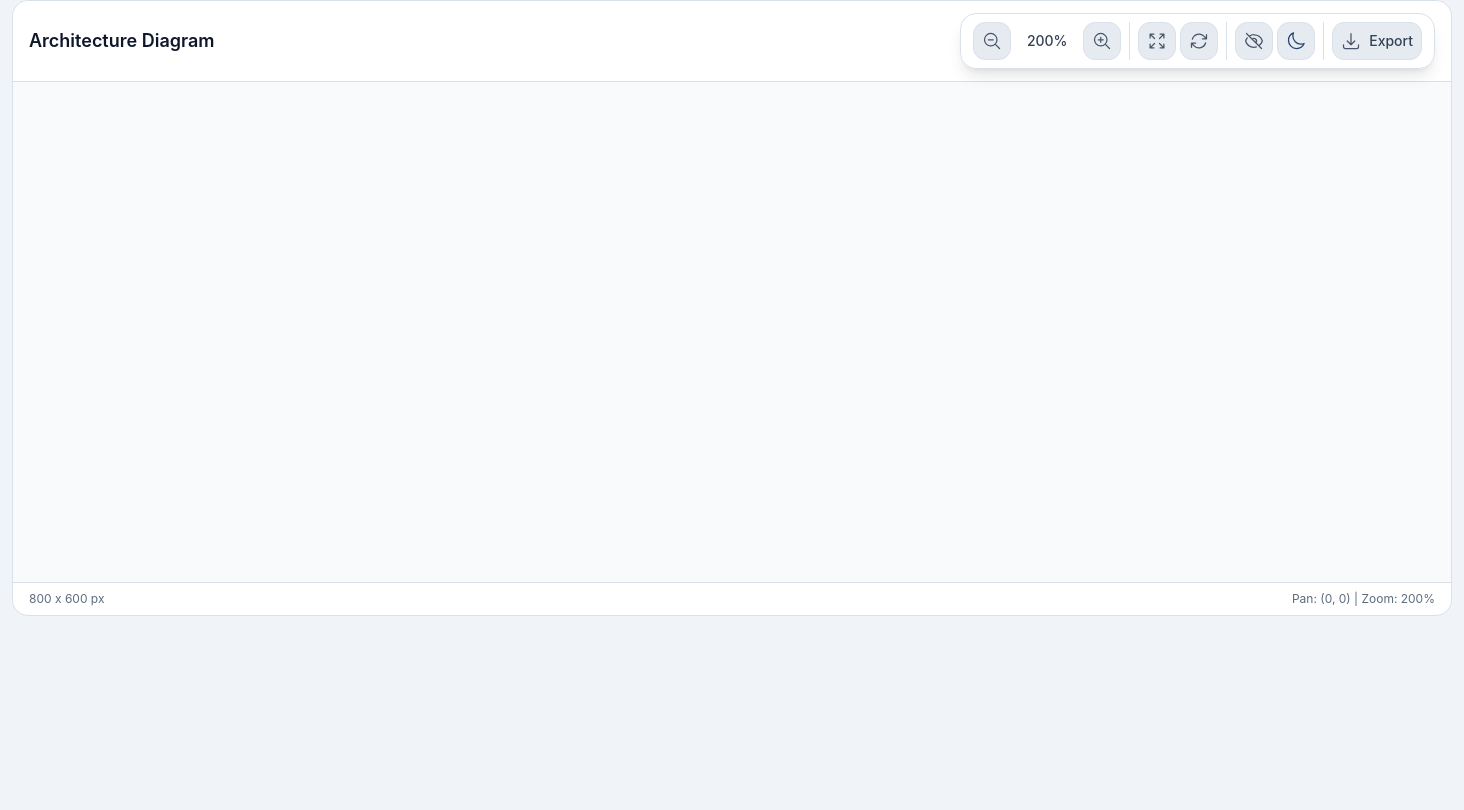
Scenario: DiagramViewer › view controls › reset view button sets zoom to 100%
Check: the text "200%" is shown, box x1=1027 y1=32 x2=1068 y2=49
Click the button named "reset view".
click(1199, 41)  # box x1=1180 y1=22 x2=1218 y2=60
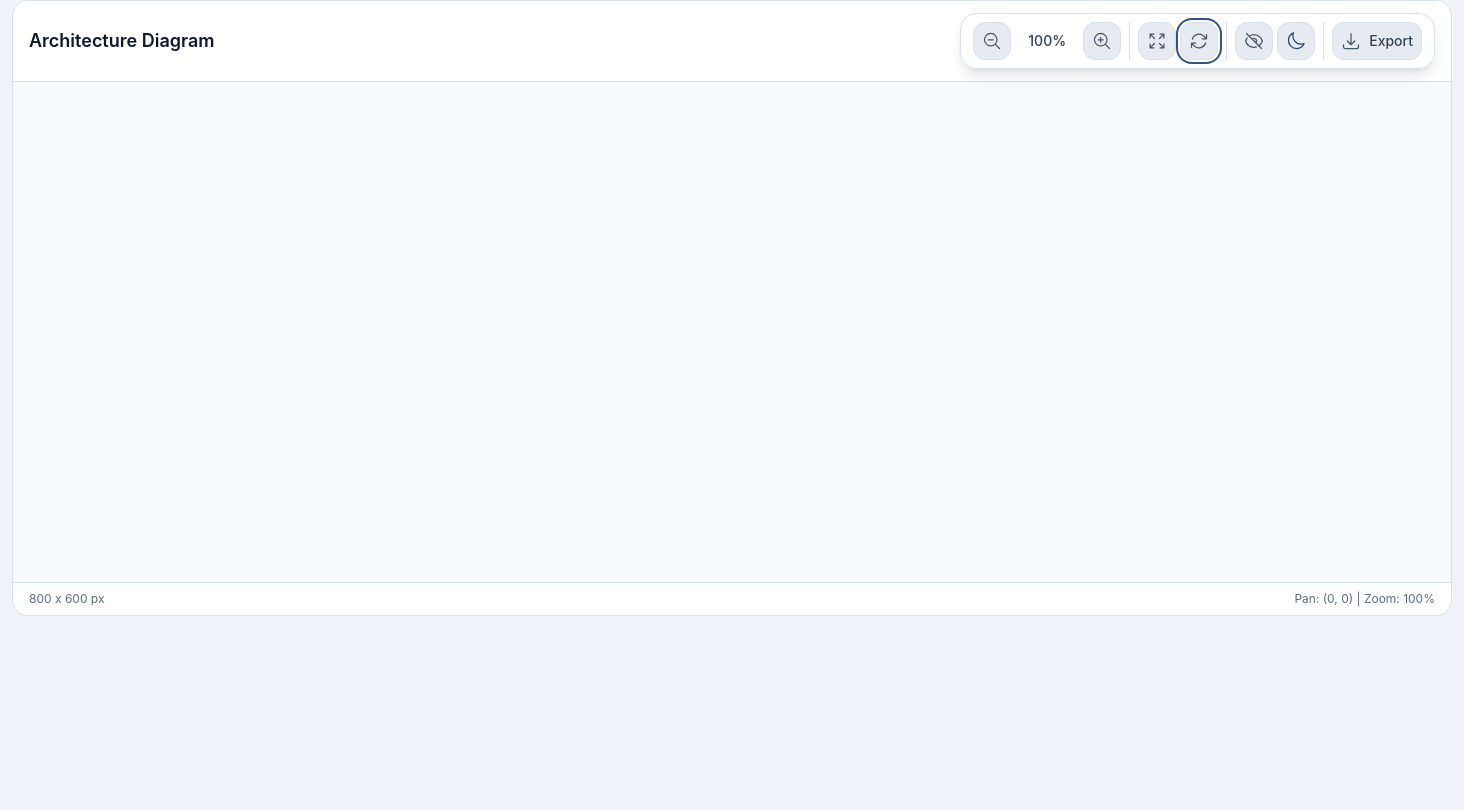
Check: the text "100%" is shown, box x1=1028 y1=32 x2=1066 y2=49
